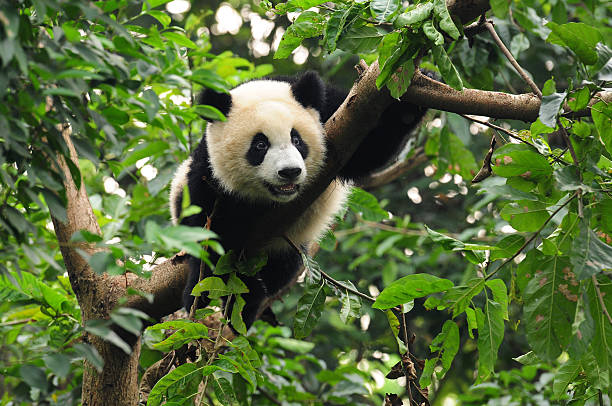panda: (177, 70, 342, 211)
